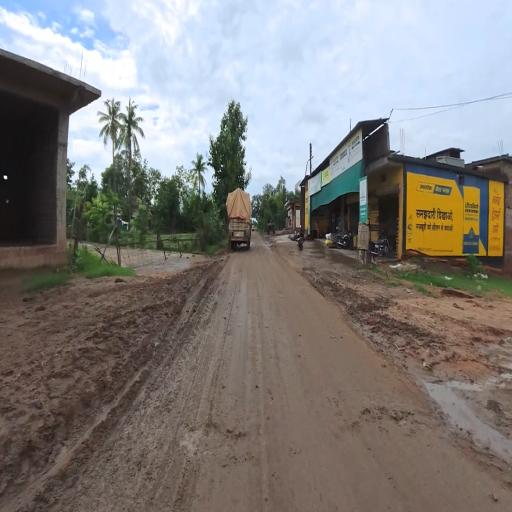ravelling: (161, 382, 245, 483), (338, 385, 431, 468)
